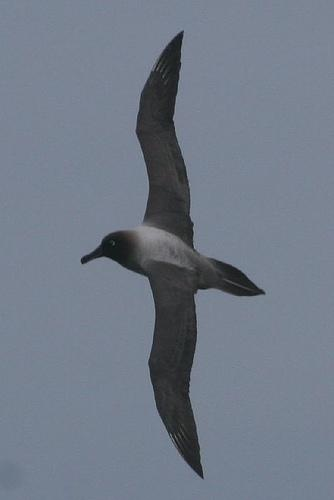bird: (80, 27, 266, 482)
